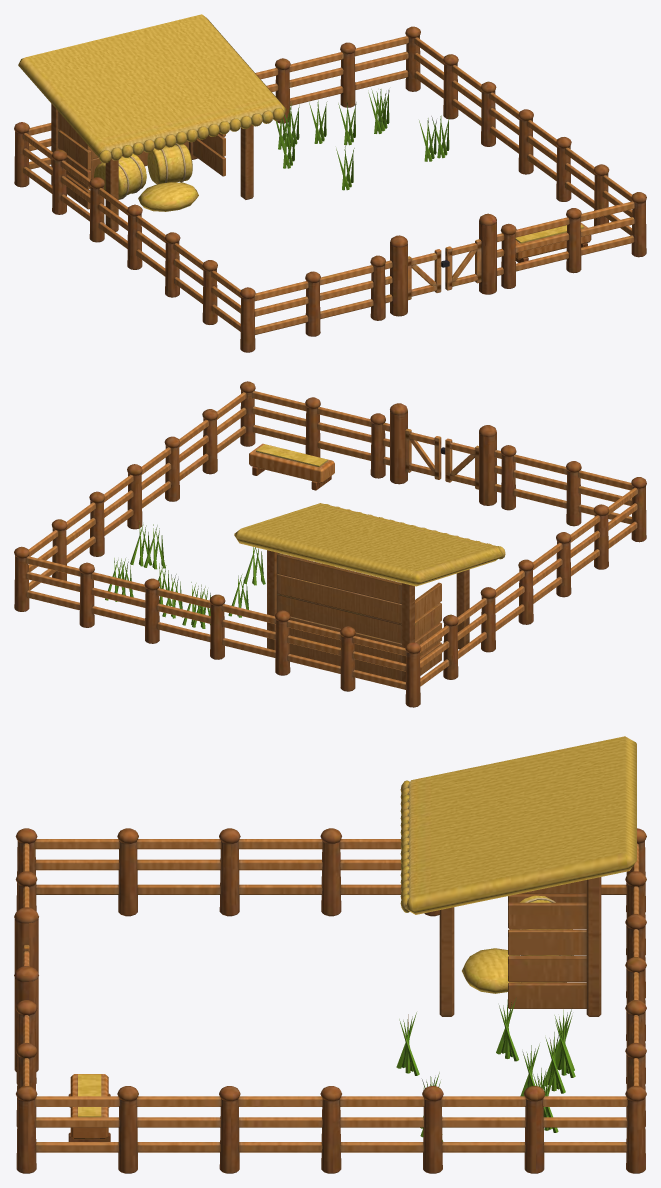
The model's file is rhea_ranch.glb.
3 renders of one model, top to bottom at view 1: azimuth 30°, elevation 25°; view 2: azimuth 150°, elevation 25°; view 3: azimuth 270°, elevation 25°, orthographic. The views are drawn at different scales.
Visible parts, largest first — view 1: rhea_ranch; view 2: rhea_ranch; view 3: rhea_ranch.
Part boxes in pixels (box(x1,y1,x2,y2)): rhea_ranch: box(14, 14, 646, 352); rhea_ranch: box(14, 381, 646, 707); rhea_ranch: box(14, 736, 646, 1173).
Bounding box in the file's own units: 3 × 0.9759 × 3.01.
1 material, 1 textured.
